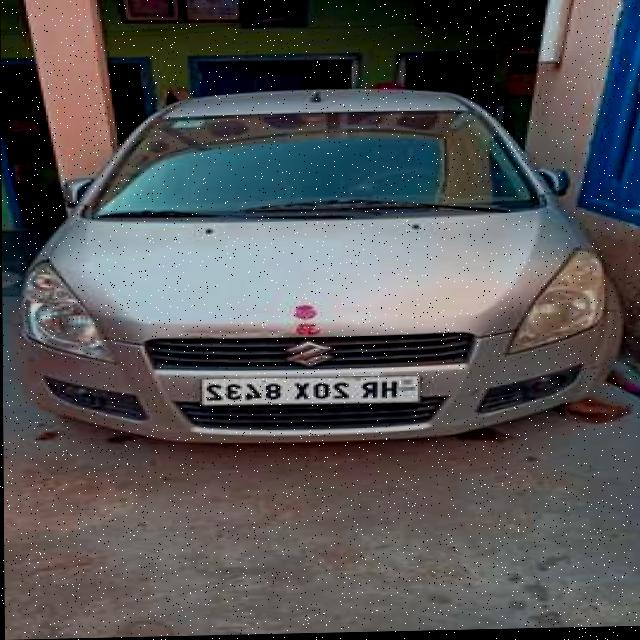plate: (198, 376, 422, 409)
